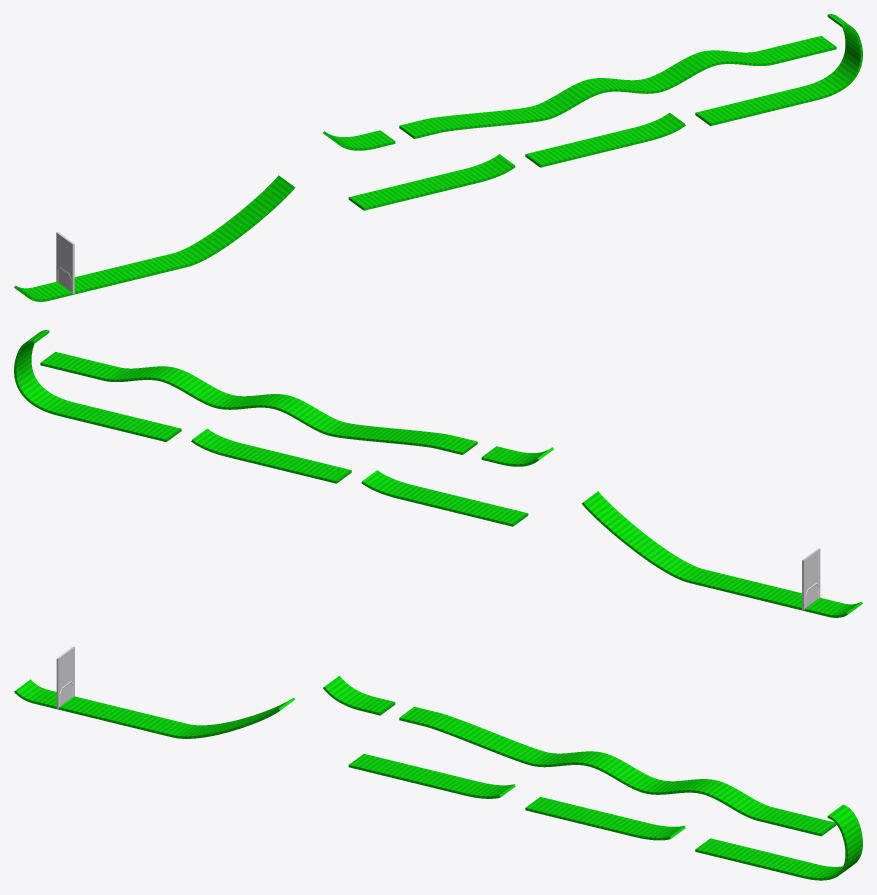
File: track_1.glb
3 renders of one model, top to bottom at view 1: azimuth 30°, elevation 25°; view 2: azimuth 150°, elevation 25°; view 3: azimuth 330°, elevation 25°, orthographic.
Visible parts, largest first — view 1: path1, path3548-7, path1194-1-5, path1194, path1194-1, Cube, path3548-7-7; view 2: path1, path3548-7, path1194-1-5, path1194, path1194-1, Cube, path3548-7-7; view 3: path1, path3548-7, path1194-1-5, path1194, path1194-1, path3548-7-7, Cube.
Part boxes in pixels (x1,y1,x2,y2): path1: (399, 36, 836, 138); path3548-7: (14, 175, 295, 301); path1194-1-5: (695, 14, 862, 126); path1194: (348, 154, 515, 210); path1194-1: (525, 112, 685, 167); Cube: (56, 232, 74, 293); path3548-7-7: (323, 130, 395, 150); path1: (40, 352, 477, 454); path3548-7: (581, 491, 862, 617); path1194-1-5: (14, 330, 181, 442); path1194: (361, 470, 528, 526); path1194-1: (191, 428, 351, 483); Cube: (802, 548, 820, 610); path3548-7-7: (481, 446, 553, 466); path1: (399, 706, 836, 836); path3548-7: (14, 679, 294, 738); path1194-1-5: (695, 804, 862, 880); path1194: (348, 754, 515, 798); path1194-1: (525, 797, 685, 840); path3548-7-7: (323, 676, 395, 715); Cube: (56, 646, 74, 708).
Bounding box in the file's own units: 875 × 88.11 × 30.
2 materials, 1 textured.
